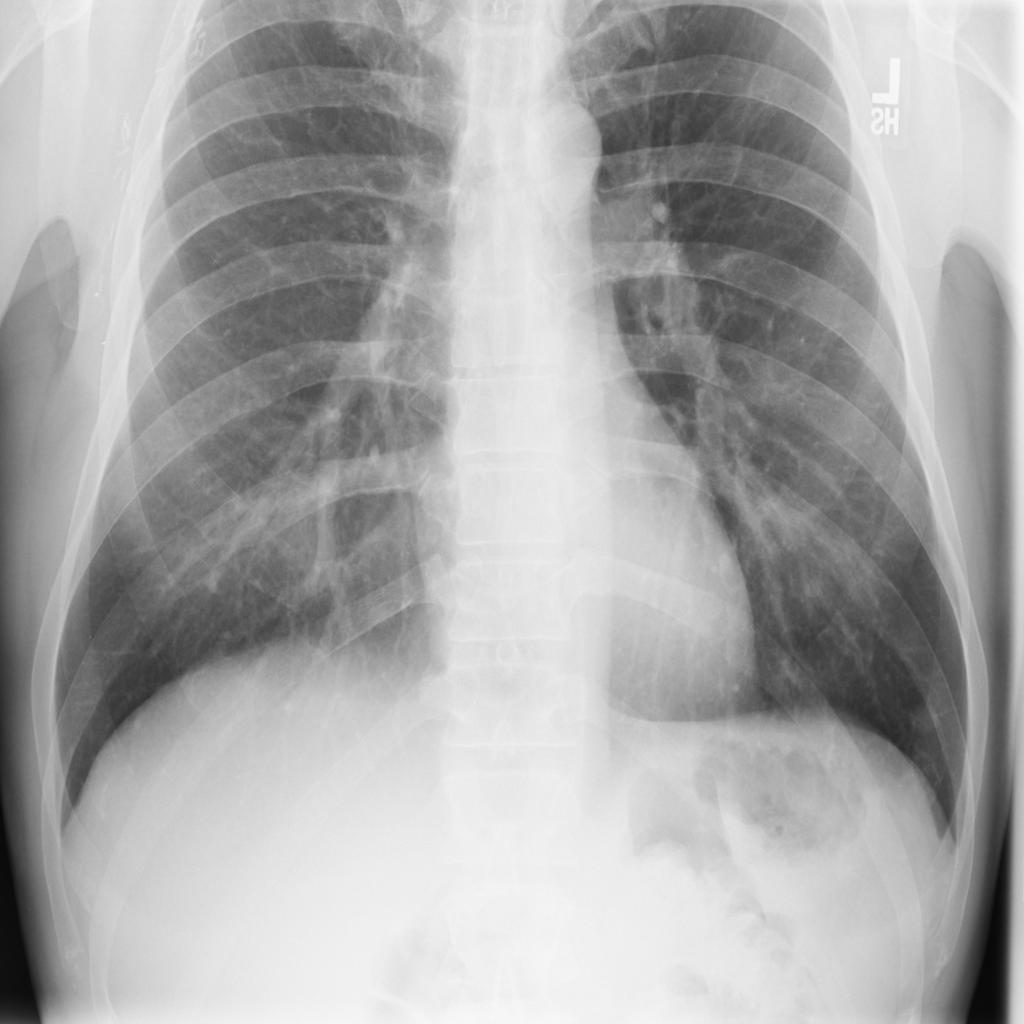nodule: (898, 689, 950, 742)
